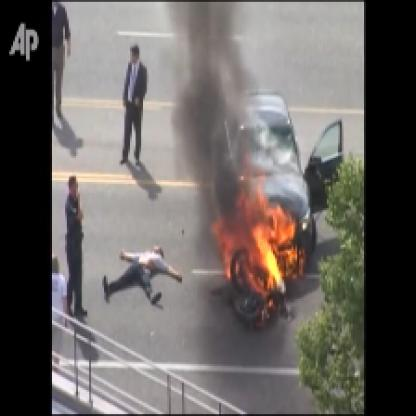Fire: (206, 176, 305, 303)
Smoke: (169, 2, 267, 204)
